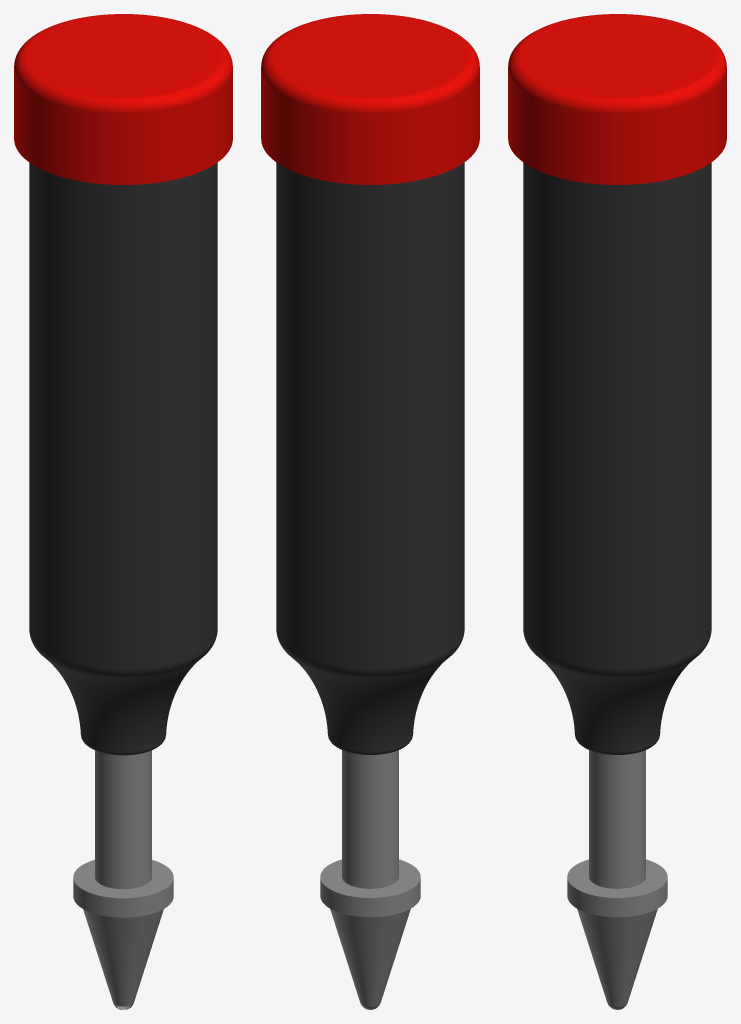
The model's file is ingrassatore.glb.
3 renders of one model, left to right at view 1: azimuth 30°, elevation 25°; view 2: azimuth 150°, elevation 25°; view 3: azimuth 270°, elevation 25°, orthographic.
Parts seen in each view (by area): view 1: G051696_VTLF 2.250 0-79.1VSVRSV SCM EUII IE3 WAT.001; view 2: G051696_VTLF 2.250 0-79.1VSVRSV SCM EUII IE3 WAT.001; view 3: G051696_VTLF 2.250 0-79.1VSVRSV SCM EUII IE3 WAT.001.
Boxes of the visible parts, box(x1,y1,x2,y2) form: G051696_VTLF 2.250 0-79.1VSVRSV SCM EUII IE3 WAT.001: box(14, 14, 232, 1009); G051696_VTLF 2.250 0-79.1VSVRSV SCM EUII IE3 WAT.001: box(261, 14, 479, 1009); G051696_VTLF 2.250 0-79.1VSVRSV SCM EUII IE3 WAT.001: box(508, 14, 726, 1009).
Bounding box in the file's own units: 0.036 × 0.173 × 0.036.
